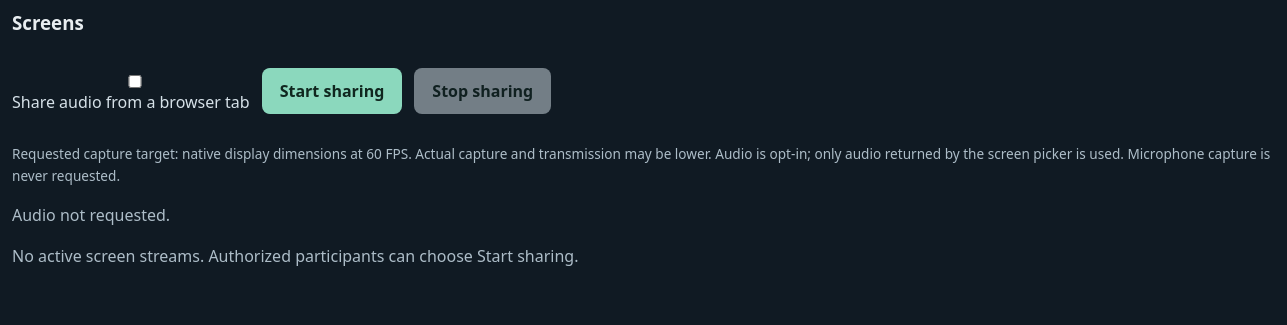
Test: a capture is released even if SDK track initialization fails
Click the button "Start sharing" at (332, 91), box [262, 68, 402, 114]
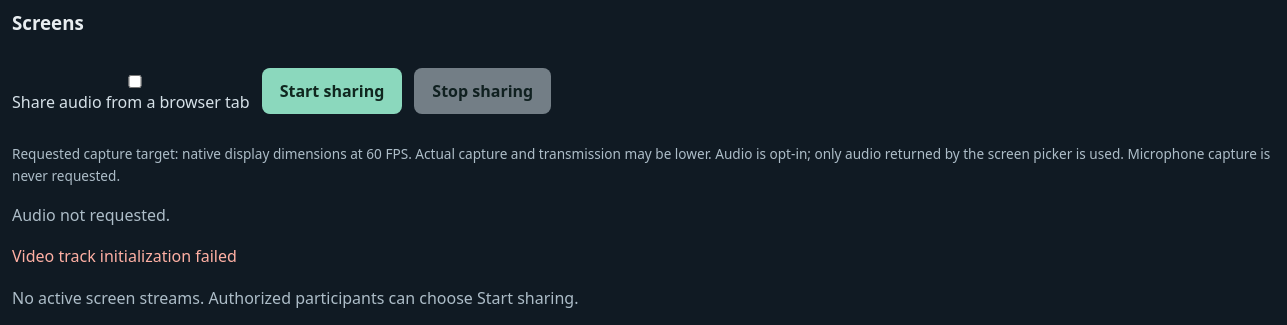
Now the message "Video track initialization failed" is shown, box [12, 245, 237, 267]
